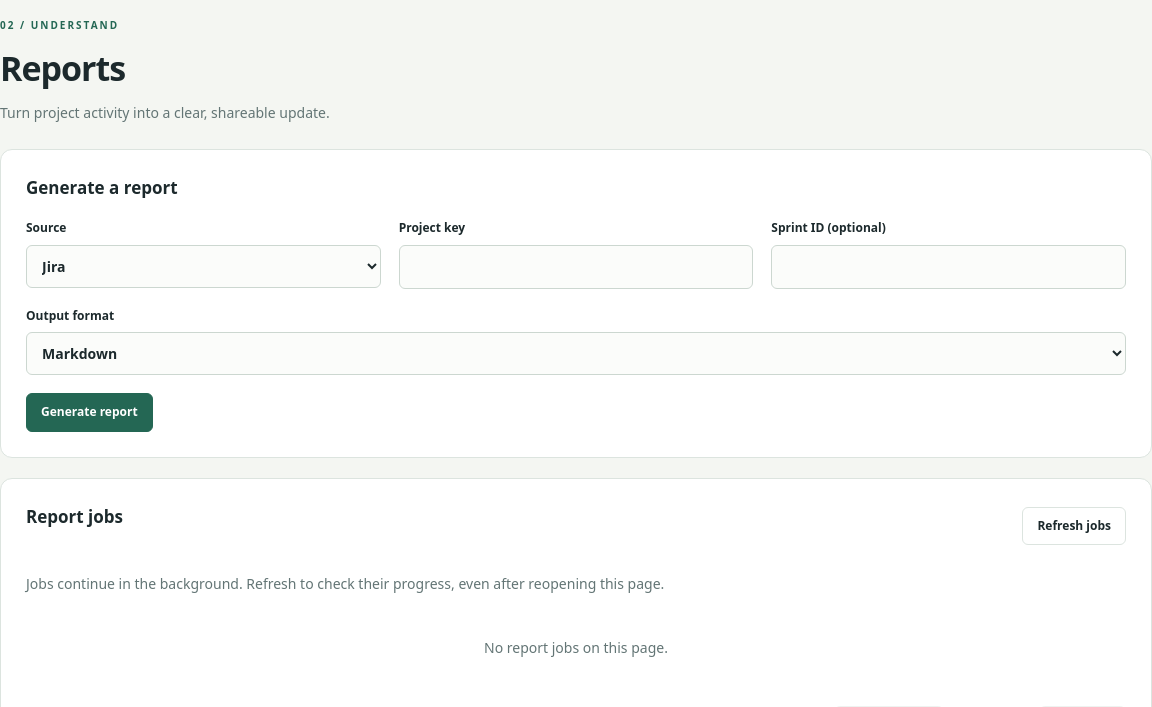
Scenario: generates, downloads PDF with selected template, and deletes
Type "DEMO" into the field labelled "Project key" at (576, 267), box [399, 245, 753, 288]
Click the button "Generate report" at (89, 412), box [26, 393, 153, 432]
(page scrolled)
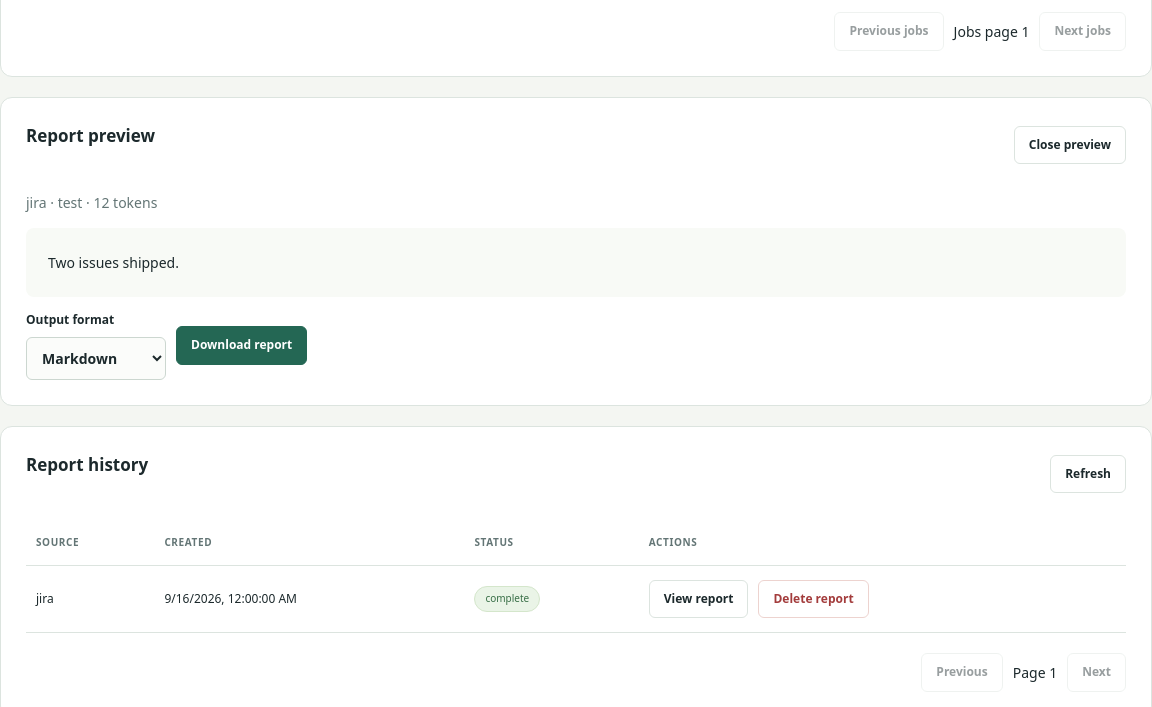
Now the text "Two issues shipped." is shown, box [26, 228, 1126, 297]
Select "PDF" in the dropdown labelled "Output format" at (96, 358), box [26, 337, 166, 380]
(page scrolled)
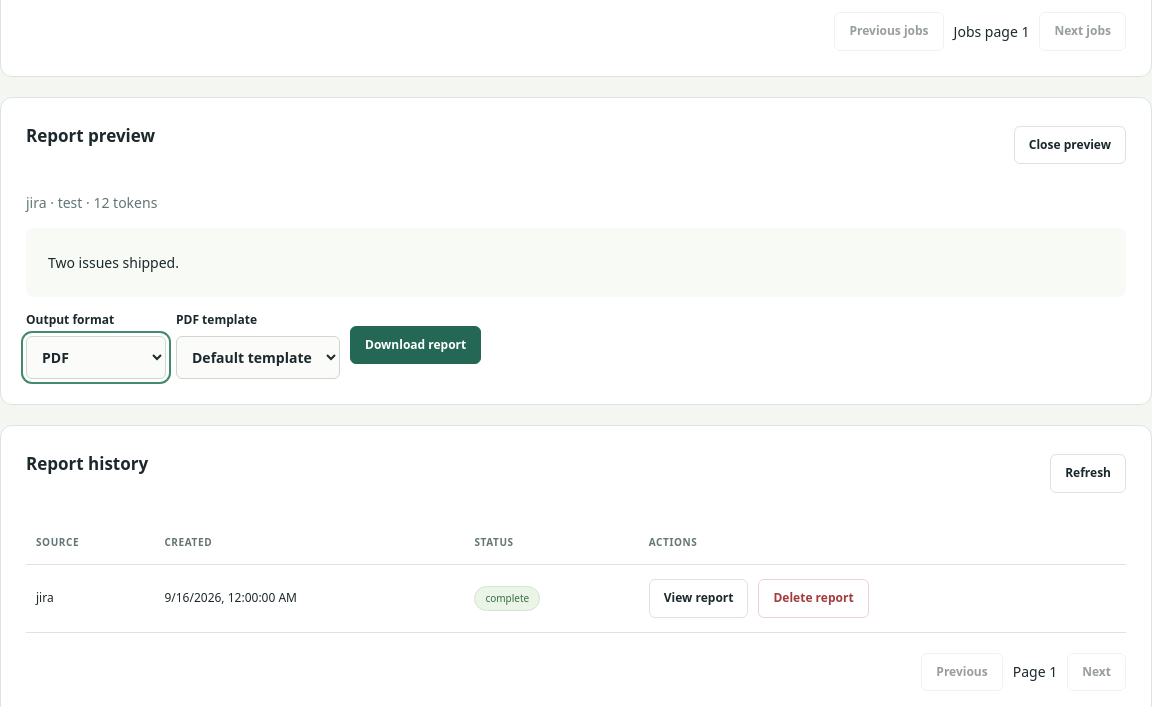
Select "Client update" in the dropdown labelled "PDF template" at (258, 358), box [176, 336, 340, 380]
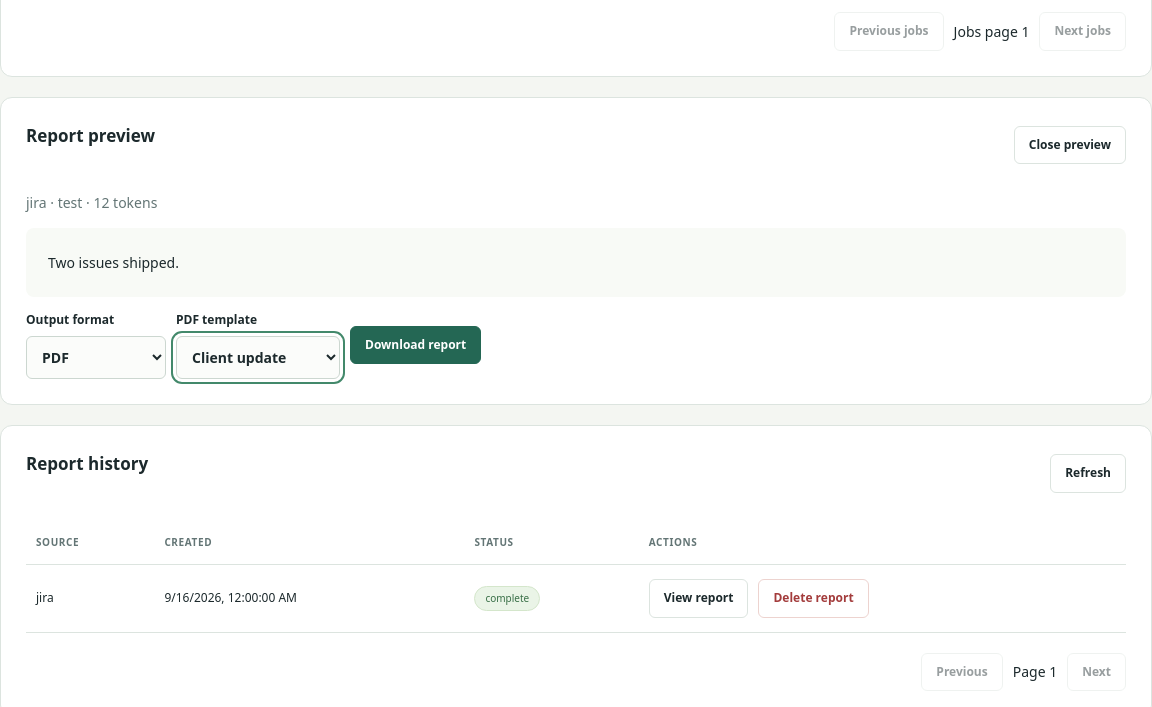
Click the button "Download report" at (416, 345), box [350, 326, 481, 364]
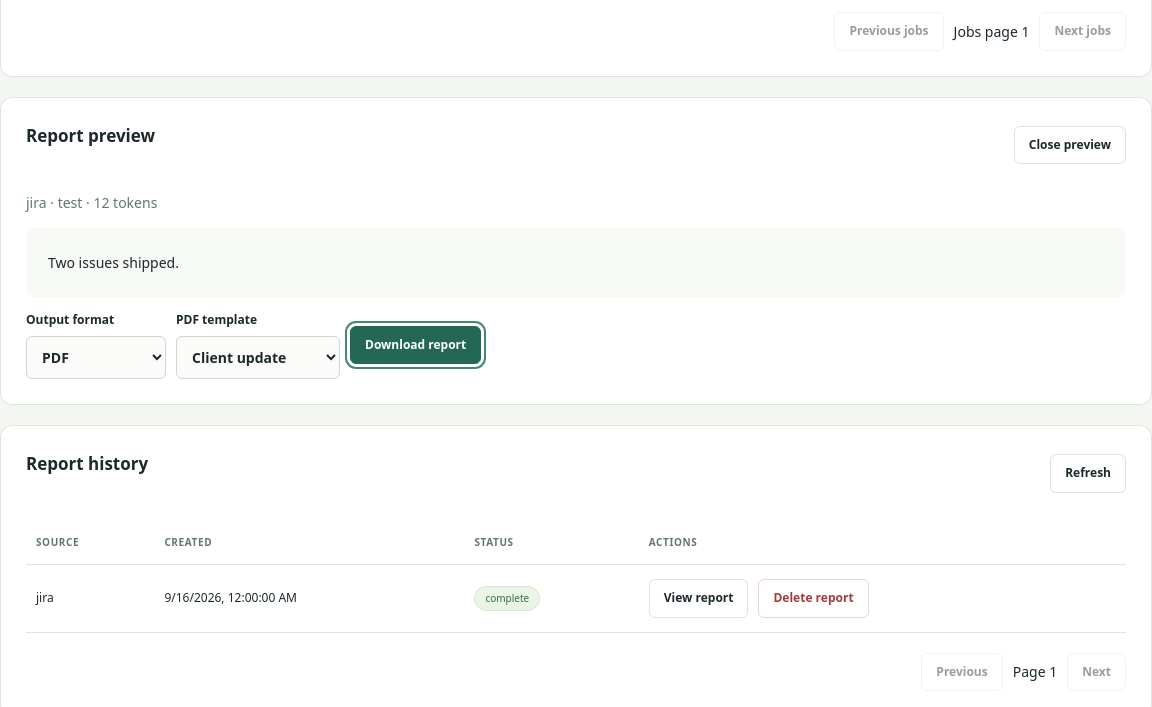
Click the button "Download report" at (416, 345), box [350, 326, 481, 364]
(page scrolled)
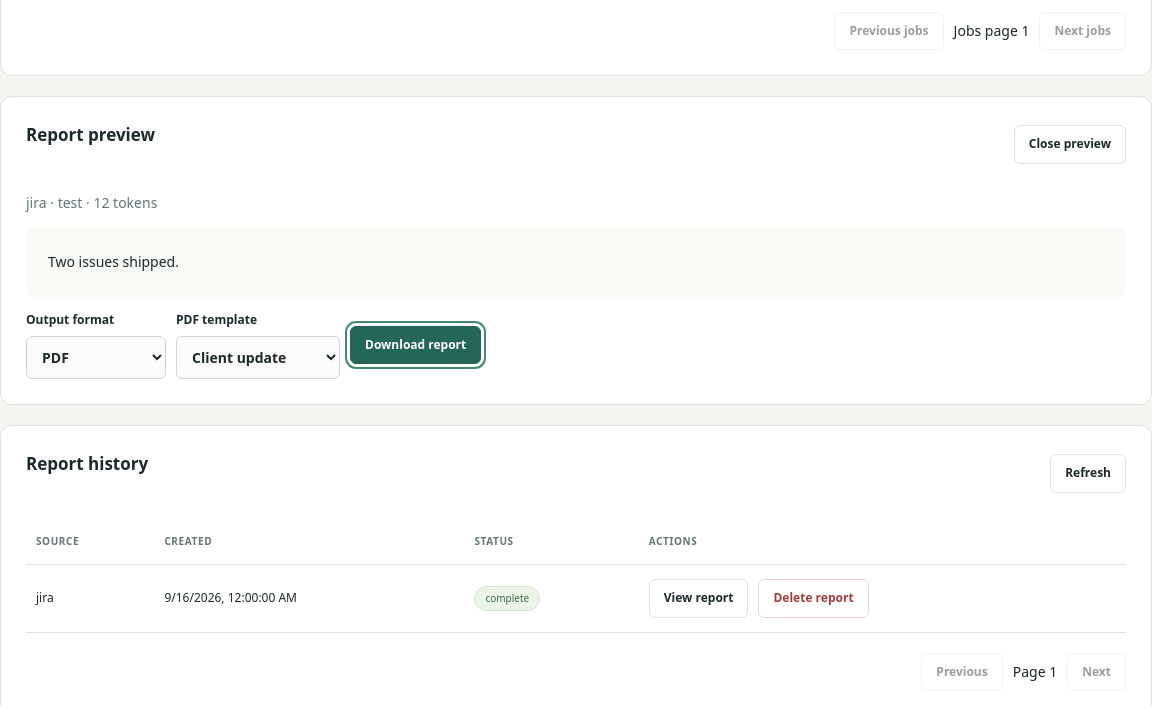
Click the button "Delete report" at (814, 598), box [758, 579, 869, 618]
(page scrolled)
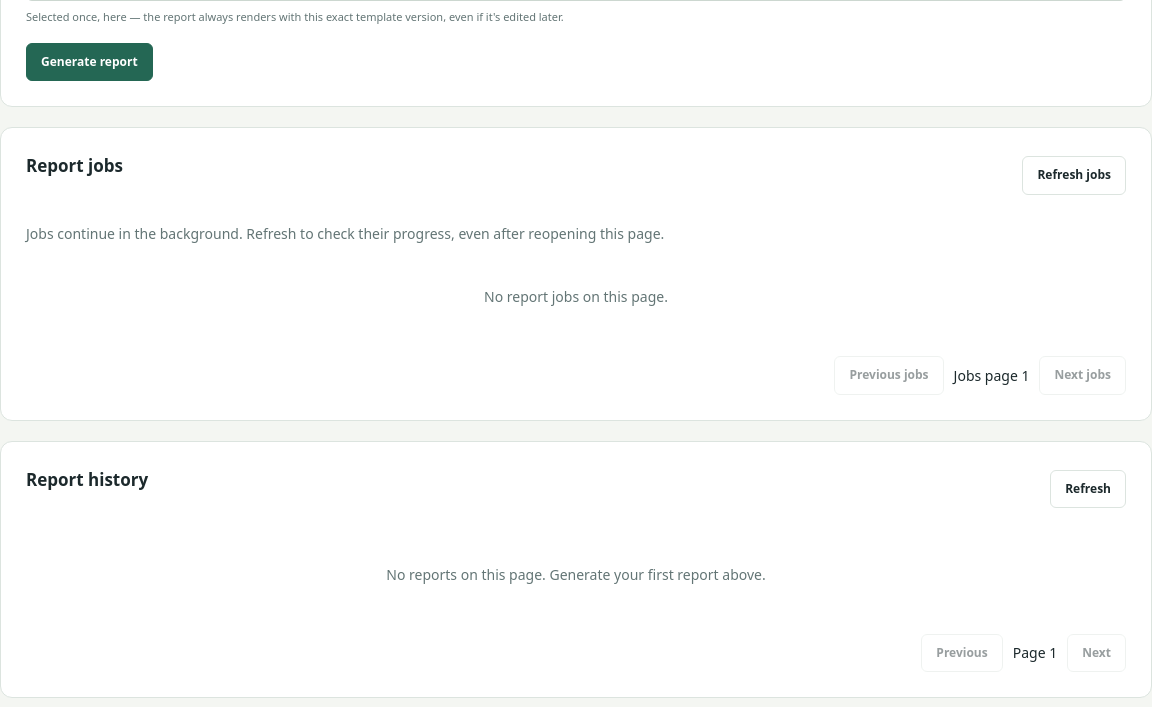
Now the text "No reports on this page. Generate your first report above." is shown, box [386, 565, 766, 584]
